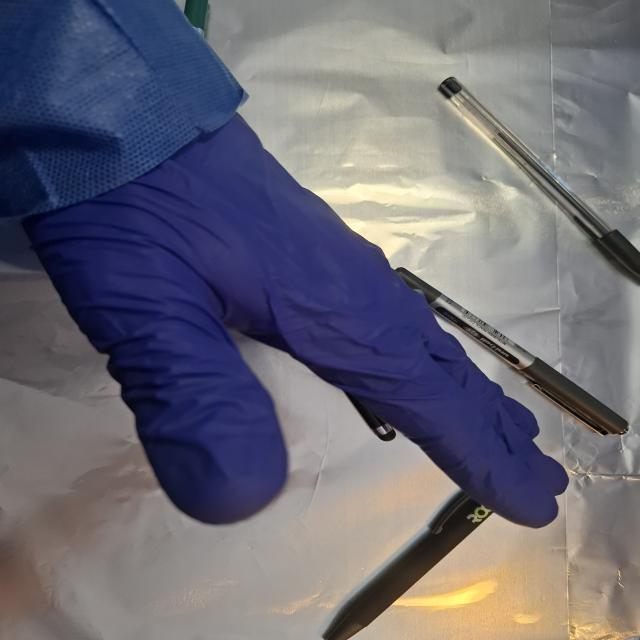glove_on: (14, 109, 572, 532)
